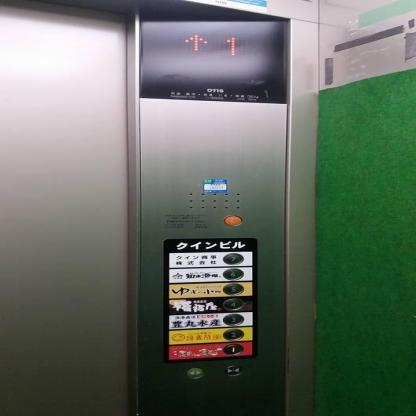1: (222, 342, 244, 356)
2: (221, 328, 245, 341)
3: (221, 313, 245, 326)
4: (220, 298, 246, 312)
5: (221, 282, 245, 296)
6: (220, 268, 245, 280)
7: (221, 252, 245, 265)
call: (220, 213, 246, 228)
close: (221, 364, 244, 378)
led: (131, 5, 294, 106)
open: (184, 367, 204, 379)
